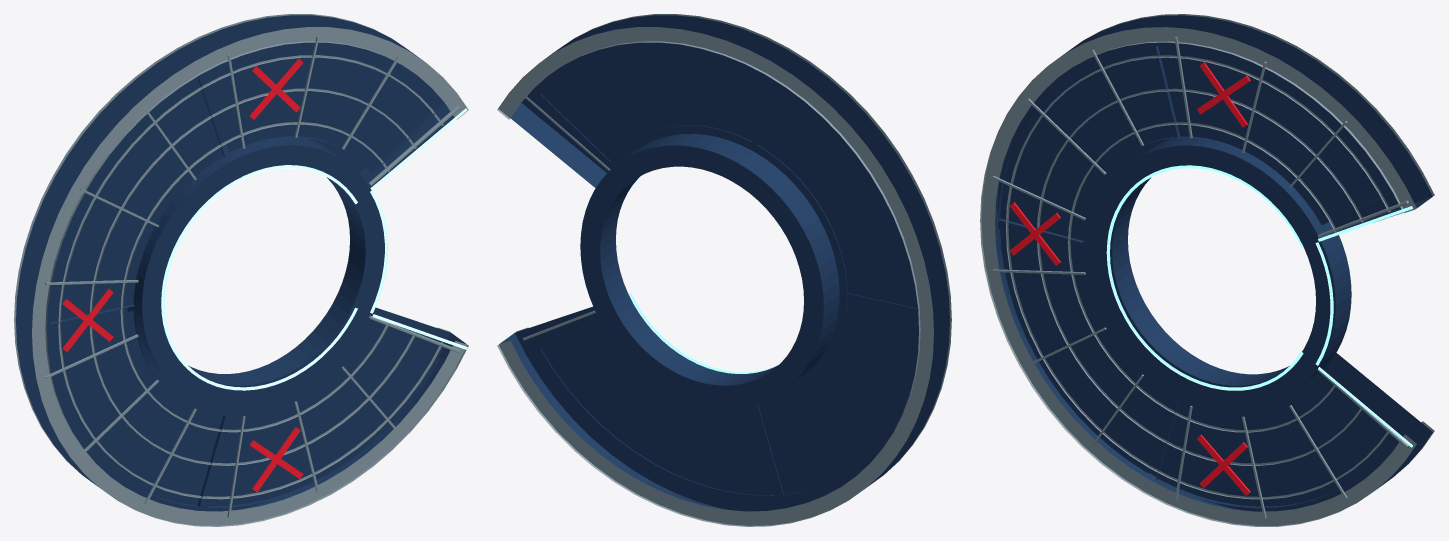
File: foundry-panel-fun4-high.glb
3 renders of one model, left to right at view 1: azimuth 30°, elevation 25°; view 2: azimuth 150°, elevation 25°; view 3: azimuth 330°, elevation 25°, orthographic.
Visible parts, largest first — view 1: RENDER_PANEL_SHELL, RENDER_PANEL_FRAME, RENDER_PANEL_SIGNAL, RENDER_PANEL_HAZARD; view 2: RENDER_PANEL_SHELL, RENDER_PANEL_FRAME, RENDER_PANEL_SIGNAL; view 3: RENDER_PANEL_SHELL, RENDER_PANEL_FRAME, RENDER_PANEL_SIGNAL, RENDER_PANEL_HAZARD.
Part boxes in pixels (x1=…): RENDER_PANEL_SHELL: x1=16, y1=15, x2=466, y2=511; RENDER_PANEL_FRAME: x1=14, y1=14, x2=468, y2=526; RENDER_PANEL_SIGNAL: x1=161, y1=108, x2=467, y2=390; RENDER_PANEL_HAZARD: x1=62, y1=58, x2=303, y2=492; RENDER_PANEL_SHELL: x1=499, y1=15, x2=949, y2=511; RENDER_PANEL_FRAME: x1=497, y1=14, x2=951, y2=526; RENDER_PANEL_SIGNAL: x1=571, y1=176, x2=779, y2=373; RENDER_PANEL_SHELL: x1=995, y1=15, x2=1432, y2=511; RENDER_PANEL_FRAME: x1=980, y1=14, x2=1434, y2=526; RENDER_PANEL_SIGNAL: x1=1106, y1=165, x2=1412, y2=447; RENDER_PANEL_HAZARD: x1=1009, y1=62, x2=1250, y2=495.
Size of what is drawn, in the model's own units: 38.44 by 41 by 3.09.
